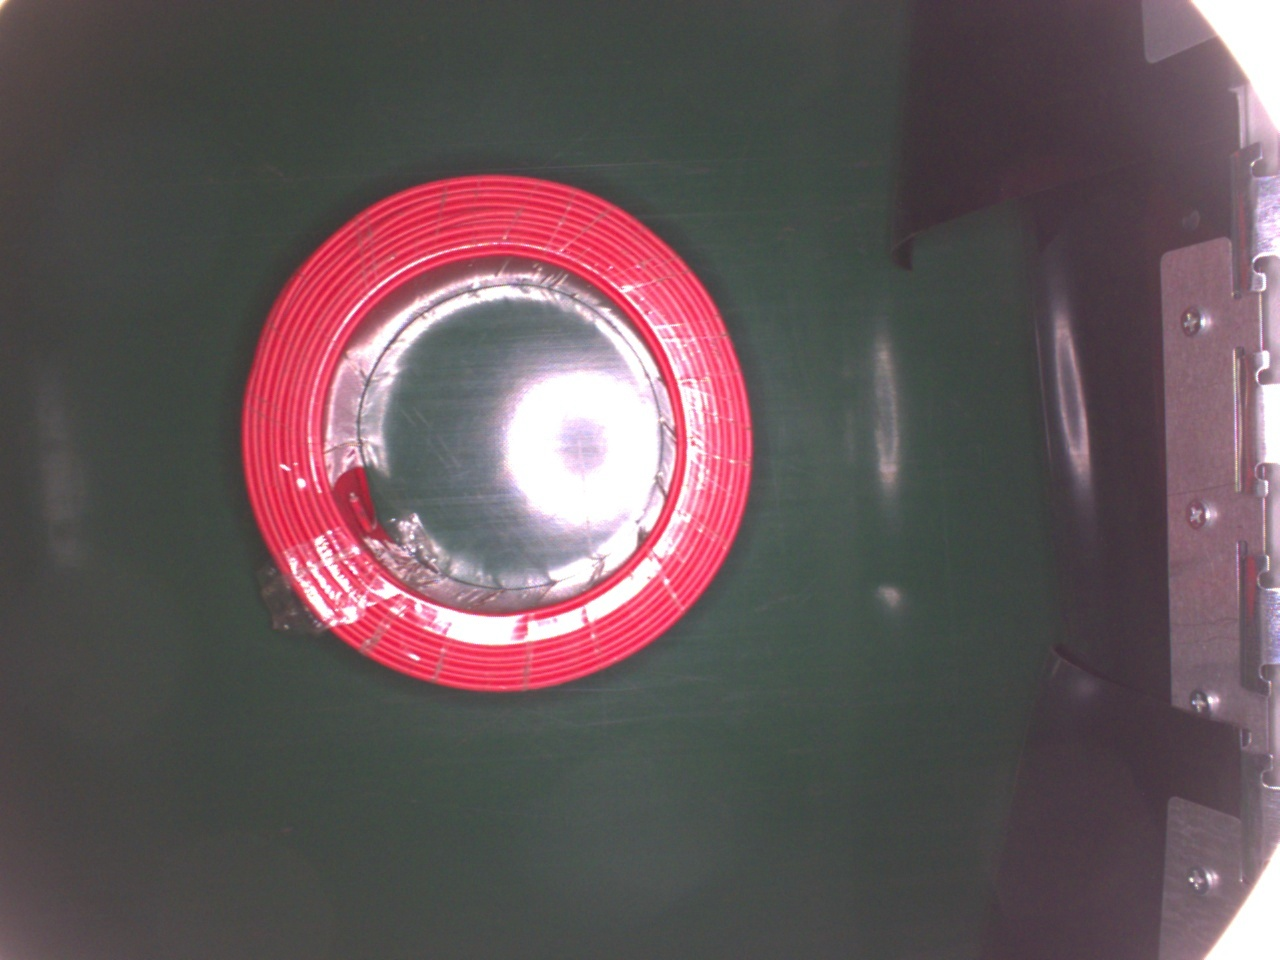red: (246, 173, 751, 685)
